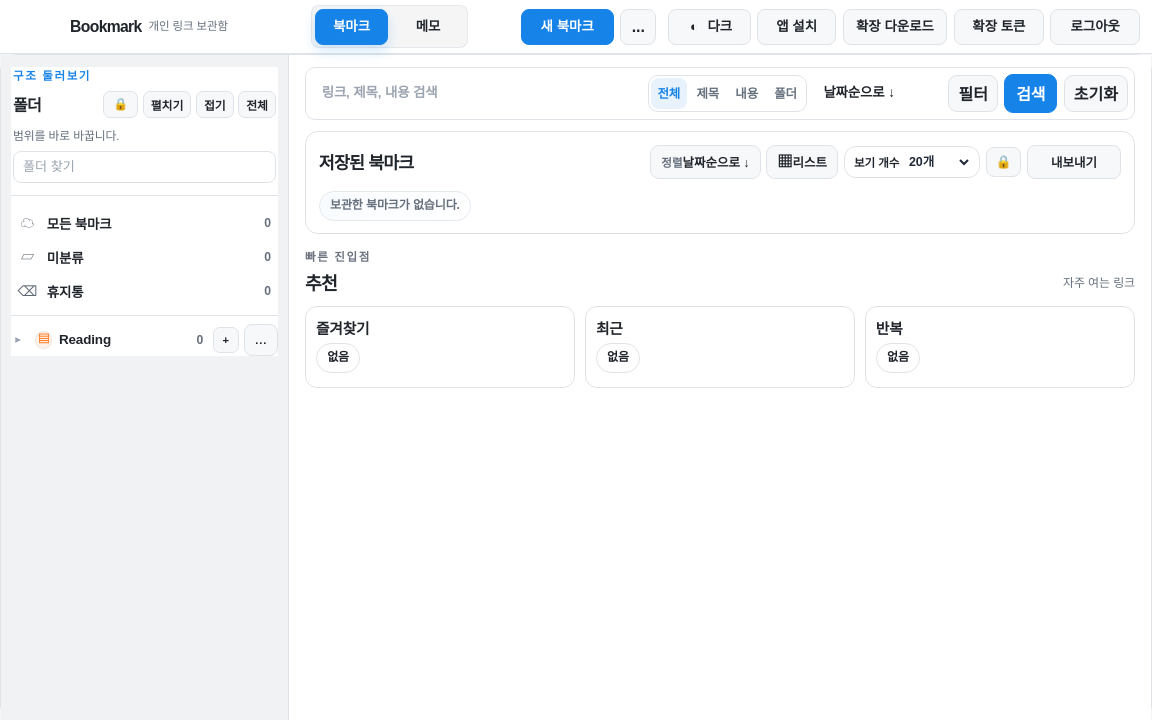
Scenario: folder and tag dashboard › renders the folder manager as a collapsible tree with parent disclosure
The image size is (1152, 720).
What coordinates should you click on to do the following:
click the button named "빠른 작업 더보기"
I would click on:
 (638, 26)
Its box is [620,8,656,44].
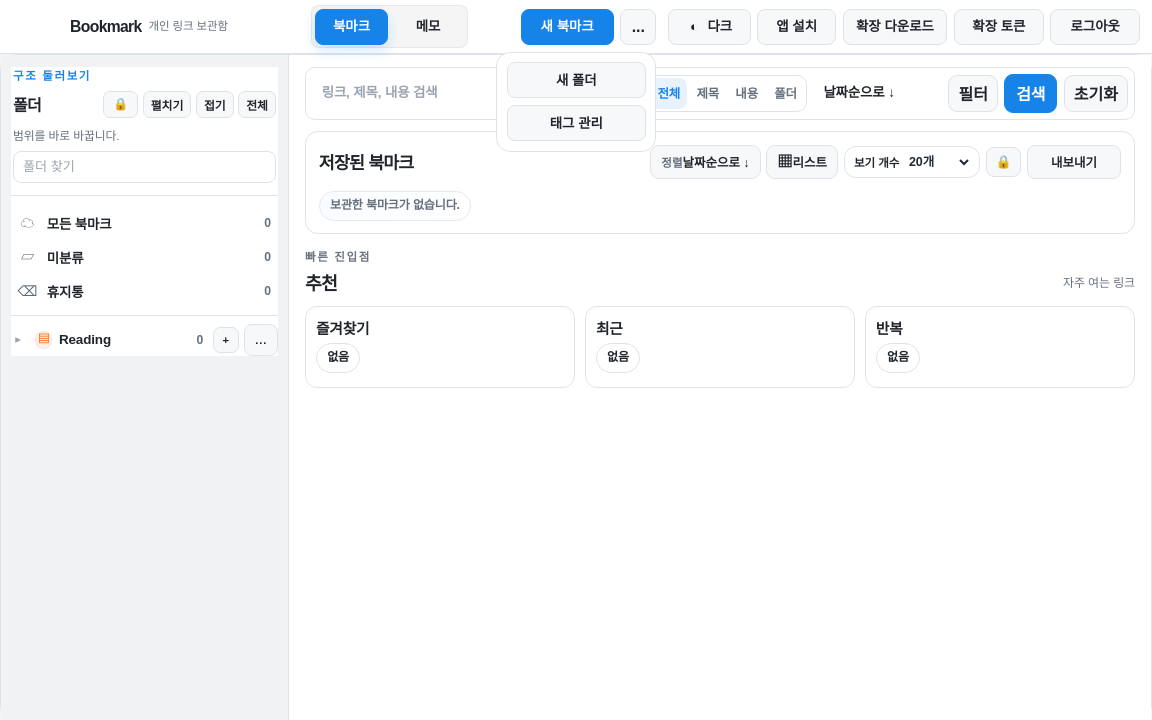
What coordinates should you click on to do the following:
click the button "새 폴더"
I would click on:
 (576, 80)
Its box is [507,62,646,98].
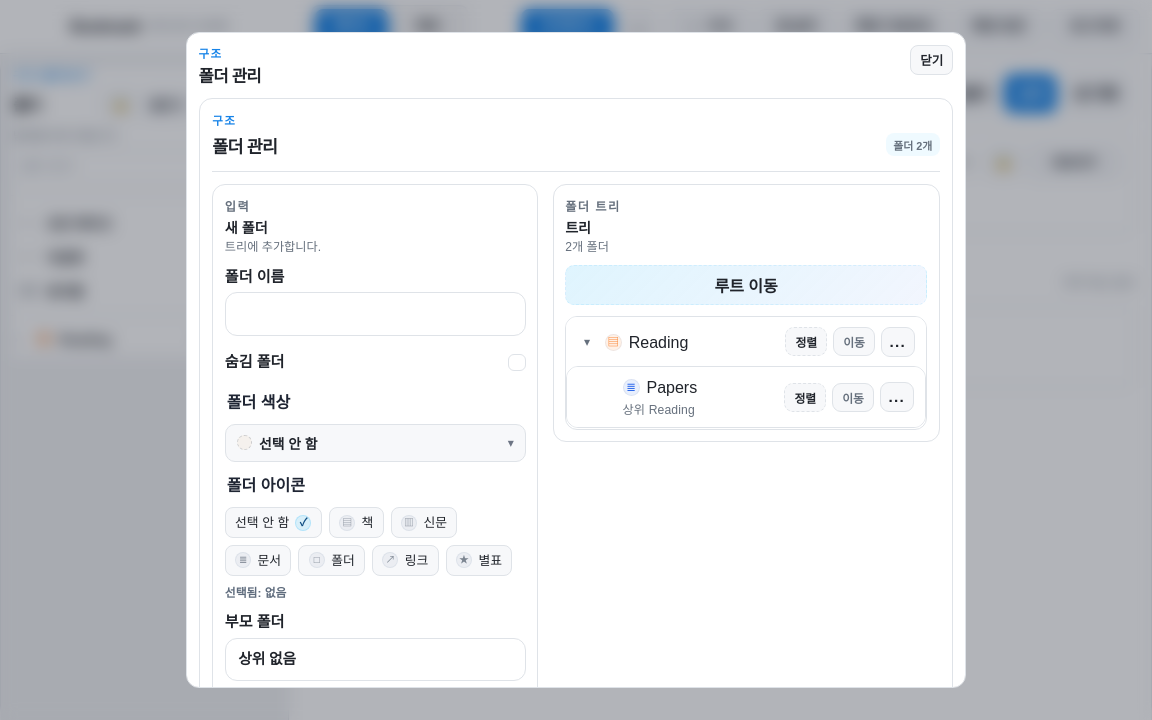
Expected: the button named "reading 폴더 접기" is shown, [578,332,597,351]
Expected: the text "Papers" is shown, [647,379,697,397]
